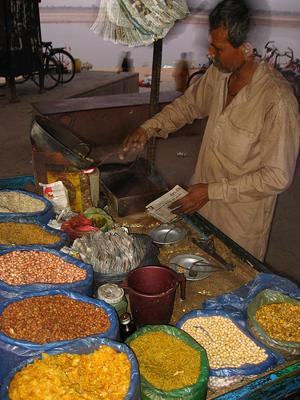person: (113, 1, 300, 268)
